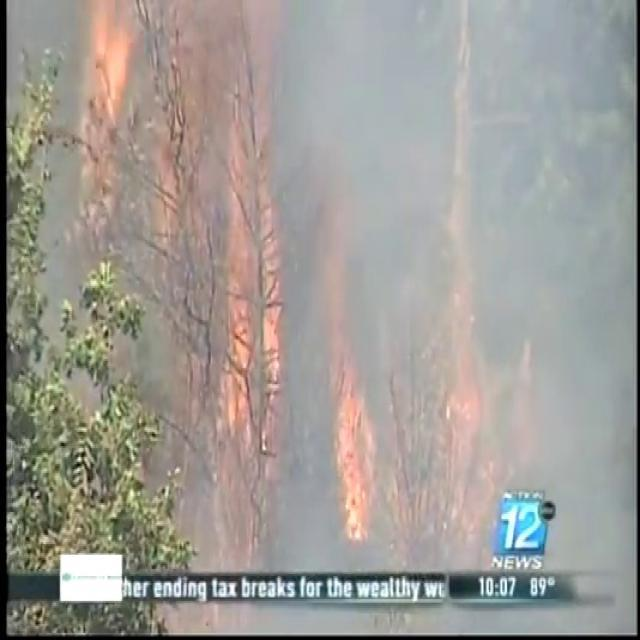Smoke: (19, 1, 628, 574)
